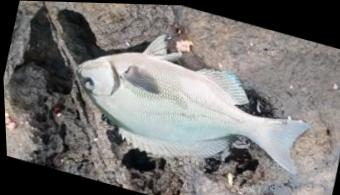fish: (77, 33, 308, 171)
